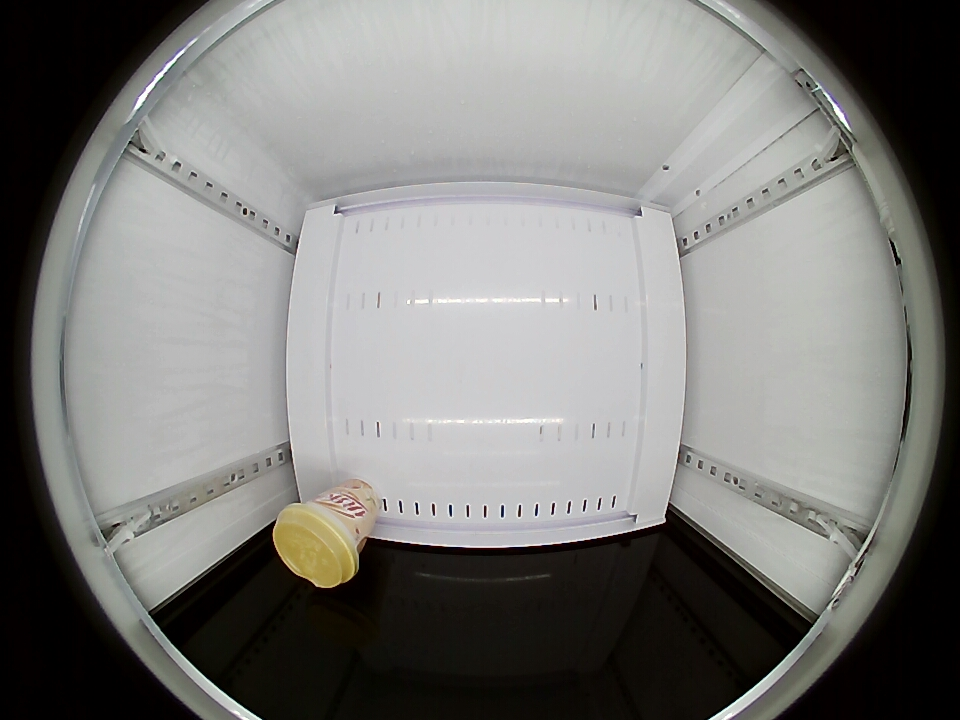youlemei: (274, 501, 364, 588)
